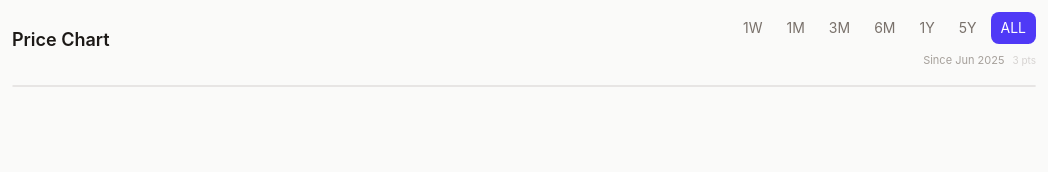
PriceChart › formatShortDate rendering › renders a "start – end" caption when a non-ALL range is selected and data is present
The image size is (1048, 172).
Click the button "1Y": (927, 28) left=910, top=12, right=945, bottom=44
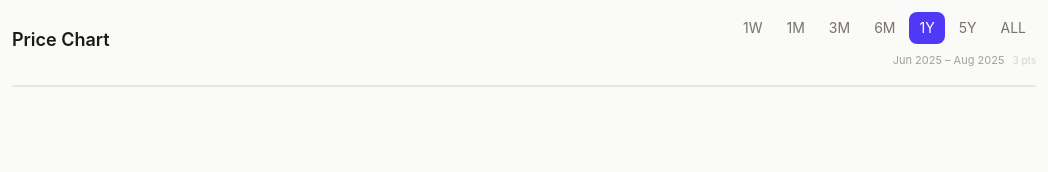
expect the text "Jun 2025 – Aug 20253 pts" is shown: met, box left=893, top=52, right=1036, bottom=68
